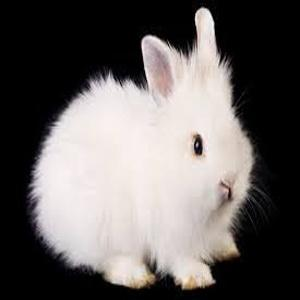rabbit: (29, 8, 272, 291)
